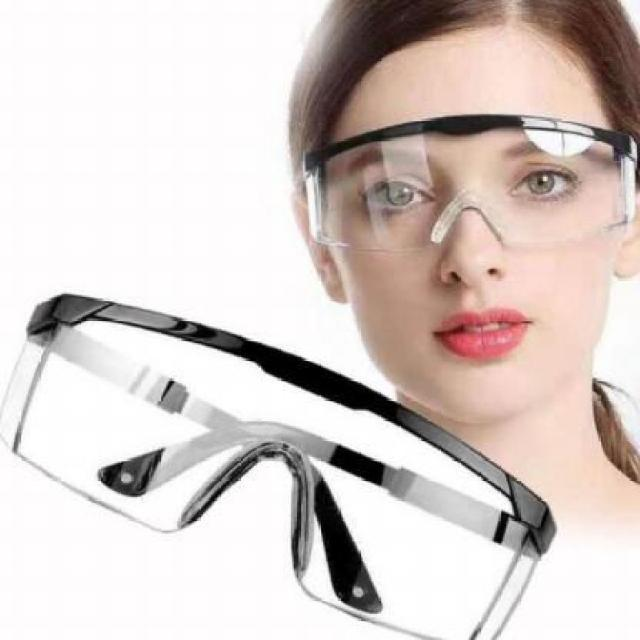Goggles: (292, 103, 640, 254)
